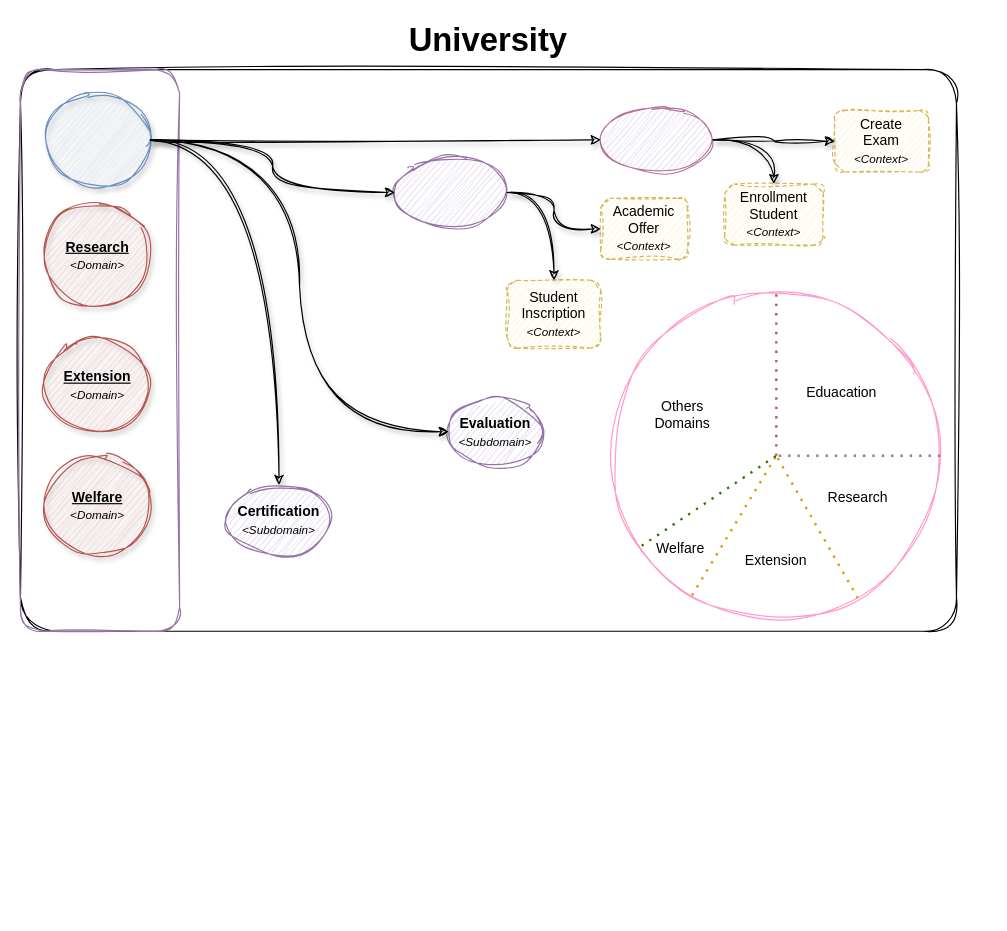
Image size: 1007x931. Some labels were removed from this diagram. Here are the shapes that lost their labels. From the top down, the centre of each, then its label:
point (98, 141): Education <Domain>
point (656, 139): Admission <Subdomain>
point (450, 192): Academic programming <Subdomain>
